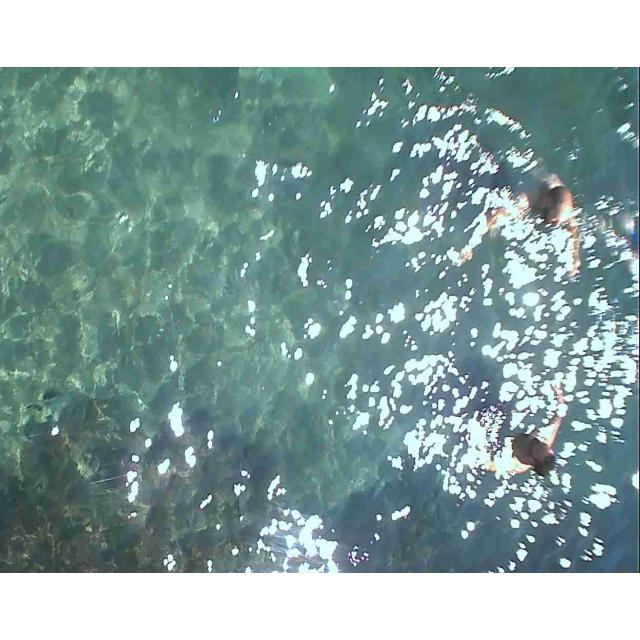human: (489, 147, 585, 276), (490, 356, 569, 492)
